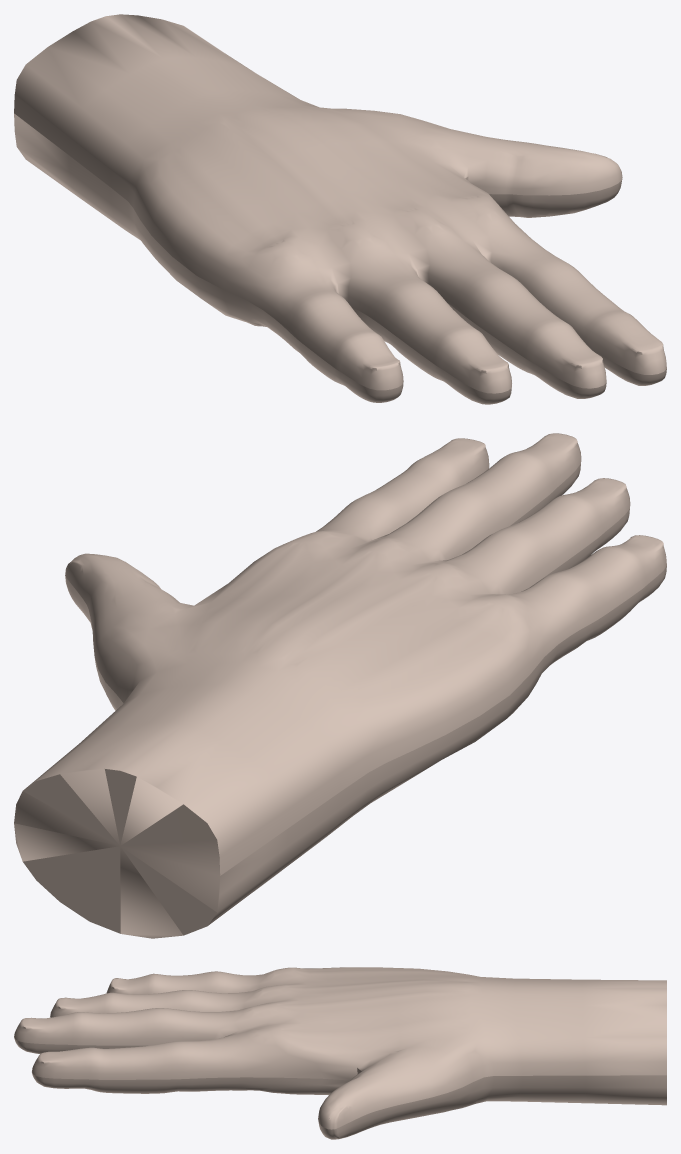
The model's file is RHandOpen.dae.
The picture shows the model from 3 angles, top to bottom: view 1: azimuth 30°, elevation 25°; view 2: azimuth 150°, elevation 25°; view 3: azimuth 270°, elevation 25°; orthographic projection. The views are drawn at different scales.
Parts seen in each view (by area): view 1: ShapeIndexedFaceSet; view 2: ShapeIndexedFaceSet; view 3: ShapeIndexedFaceSet.
Boxes of the visible parts, x1,y1,x2,y2 form: ShapeIndexedFaceSet: [14, 14, 666, 404]; ShapeIndexedFaceSet: [14, 433, 666, 938]; ShapeIndexedFaceSet: [14, 967, 666, 1139].
Bounding box in the file's own units: 0.1184 × 0.2236 × 0.0427.
